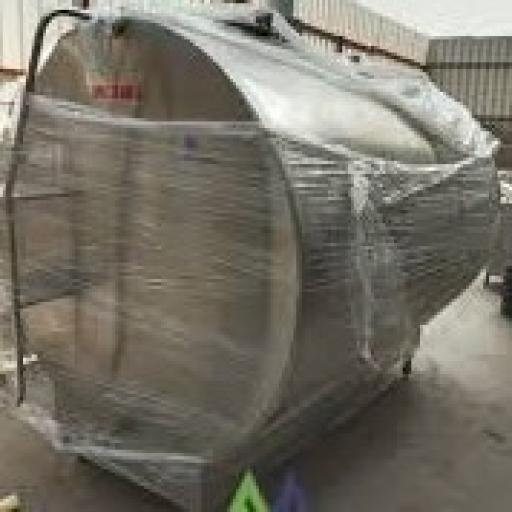silo: (0, 7, 498, 509)
